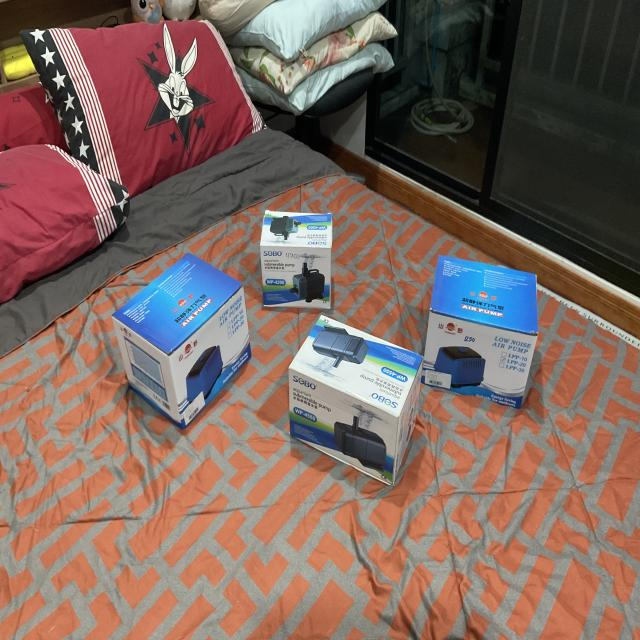SOBO_WP_4200: (282, 306, 425, 499), (252, 196, 348, 325)
YAMANO_LPP_20: (102, 232, 258, 451), (414, 248, 568, 412)
